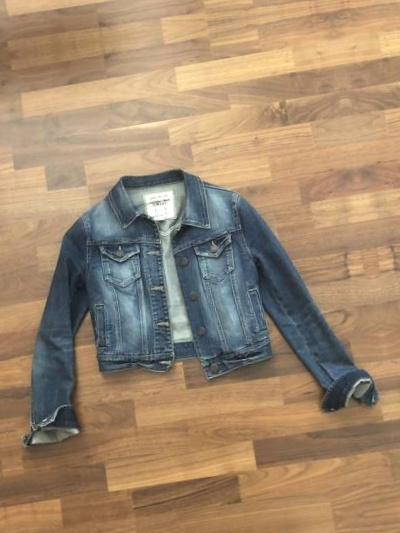Blazer: (0, 101, 385, 482), (356, 39, 400, 420), (0, 161, 10, 533)
